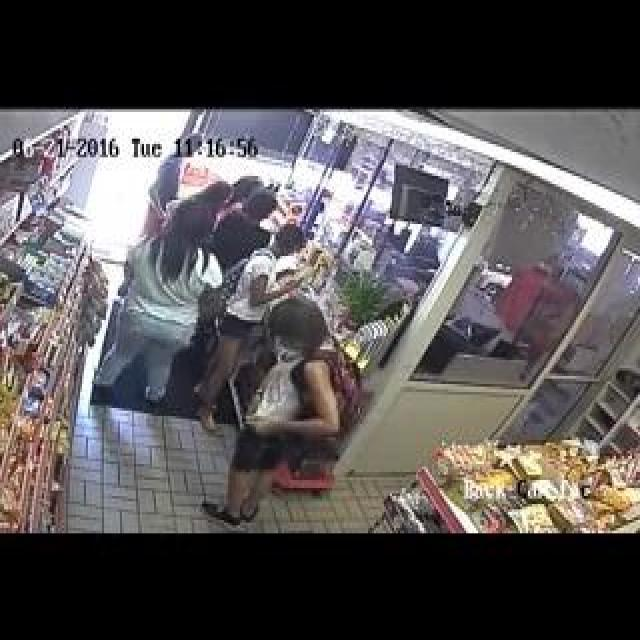Shoplifting: (198, 281, 398, 547)
